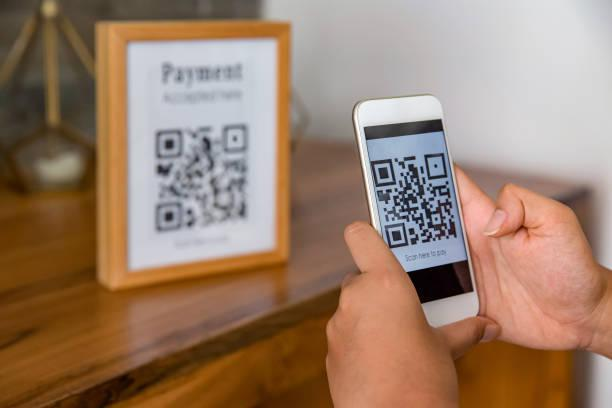Finder pattern: (155, 200, 184, 234), (370, 157, 397, 191), (155, 129, 184, 160), (385, 219, 412, 250)
